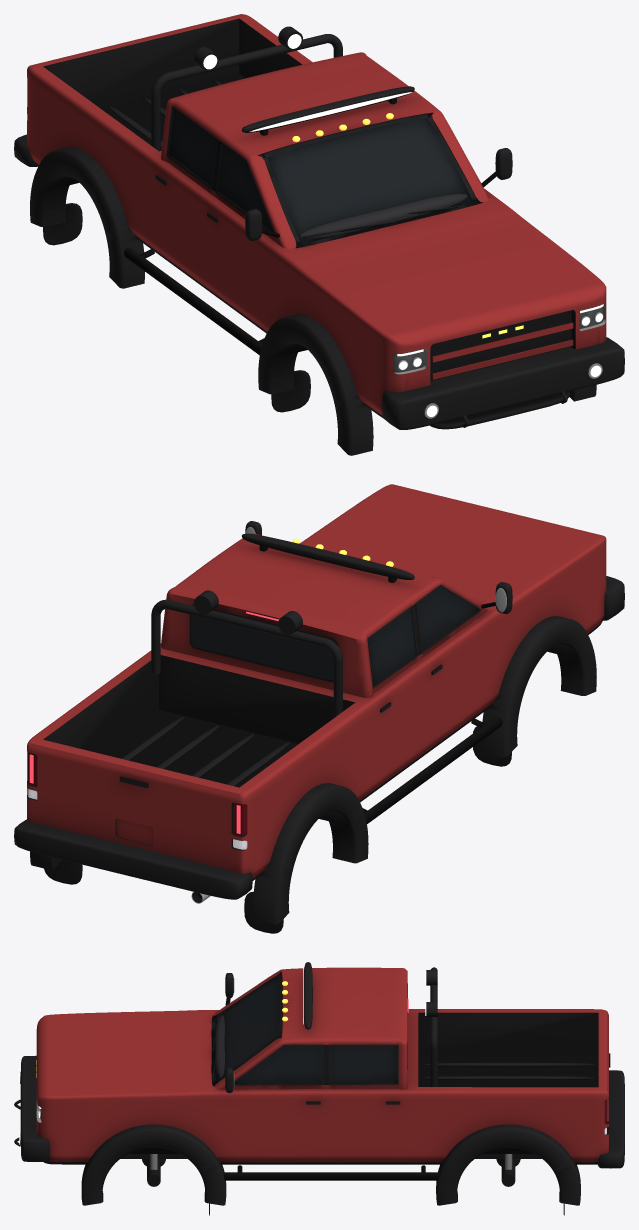
File: juggernaut.glb
The picture shows the model from 3 angles, top to bottom: view 1: azimuth 30°, elevation 25°; view 2: azimuth 150°, elevation 25°; view 3: azimuth 270°, elevation 25°; orthographic projection. The views are drawn at different scales.
Parts seen in each view (by area): view 1: paint, trim, window, grille, interior, lens, head, chrome; view 2: paint, trim, glass, window, tail; view 3: paint, trim, window, interior, chrome.
Part boxes in pixels (x1,y1,x2,y2): paint: (27,14,606,415); trim: (14,18,624,455); window: (169,109,480,248); grille: (430,310,571,380); interior: (300,194,467,238); lens: (203,34,602,416); head: (393,305,603,372); chrome: (245,162,605,418); paint: (27,484,606,878); trim: (14,521,624,933); glass: (191,615,335,680); window: (368,587,477,684); tail: (28,752,247,836); paint: (36,967,608,1162); trim: (14,962,624,1215); window: (212,973,397,1085); interior: (214,1014,224,1078); chrome: (20,976,512,1169).
Size of what is drawn, in the model's own units: 2.26 by 1.97 by 5.82.
